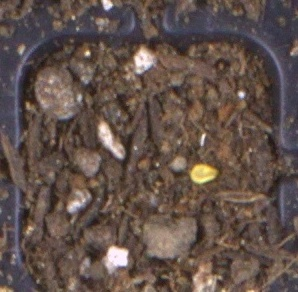chilli seed: (189, 163, 219, 184)
